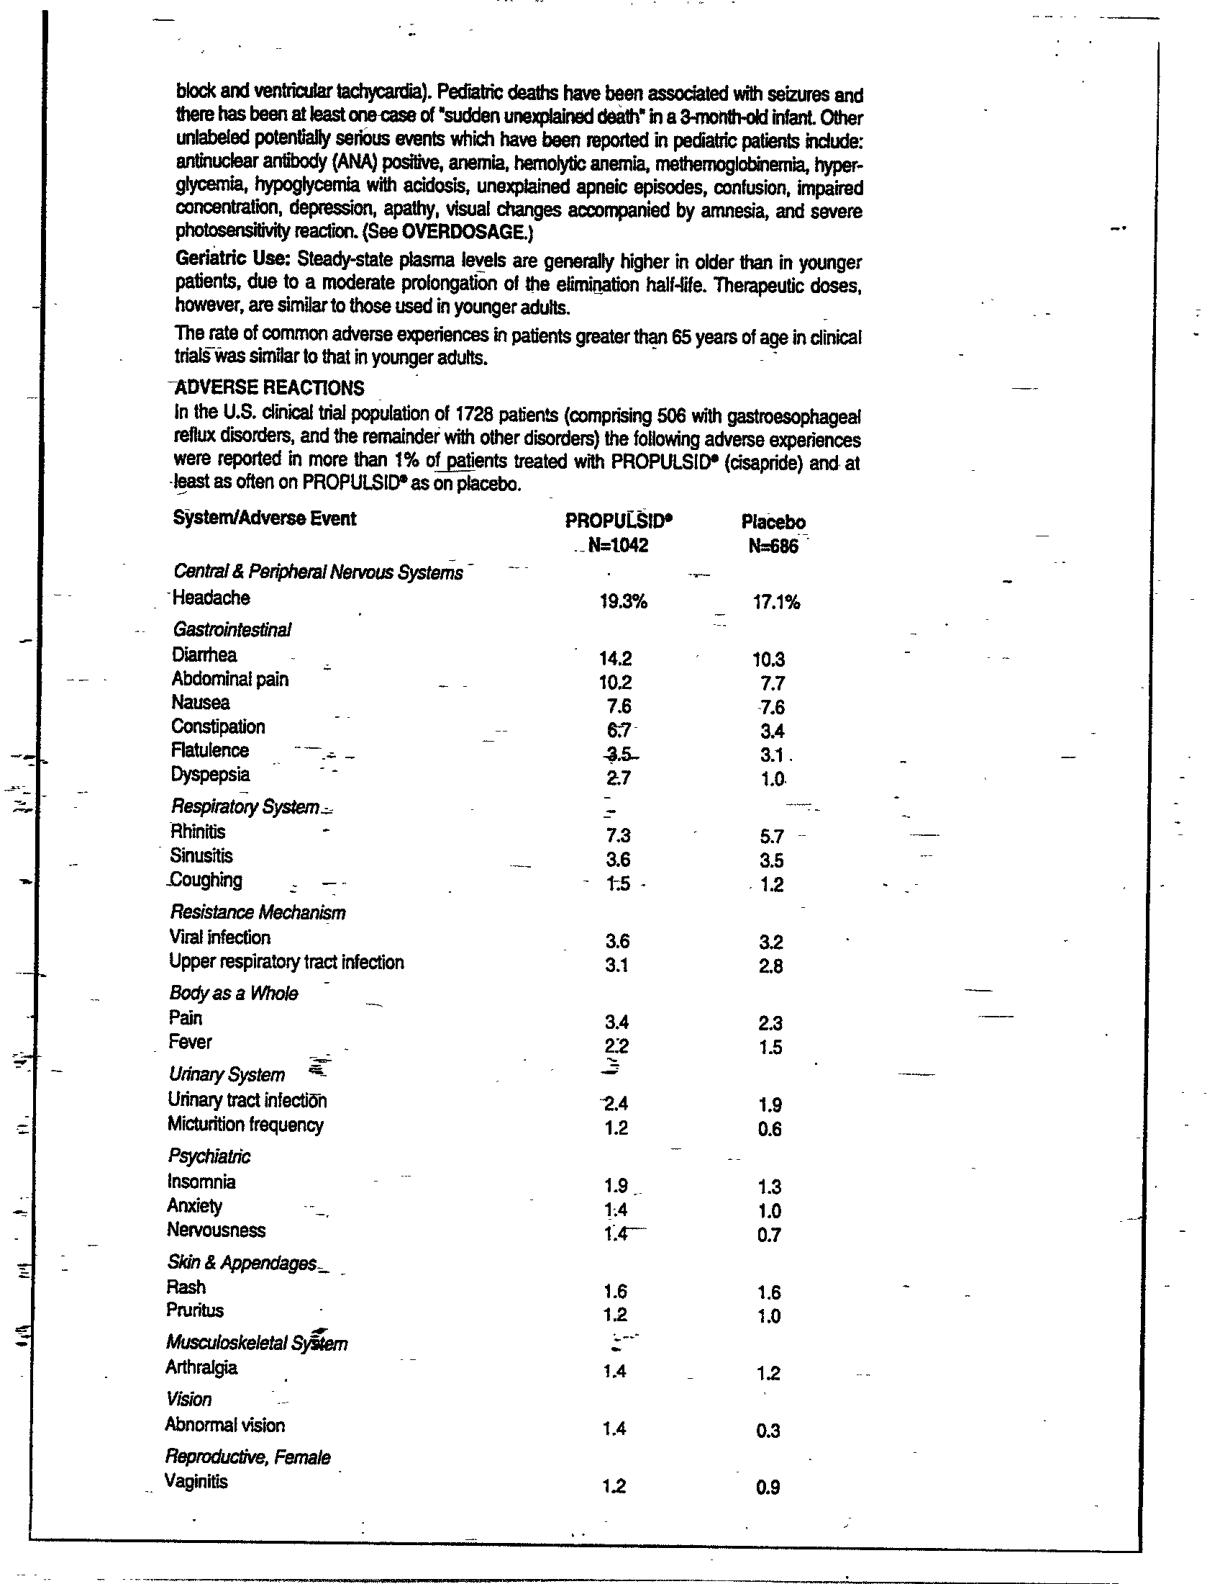nolines: (160, 508, 809, 1495)
